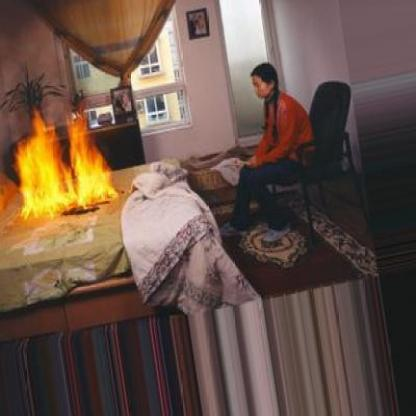fire: (6, 105, 116, 223)
